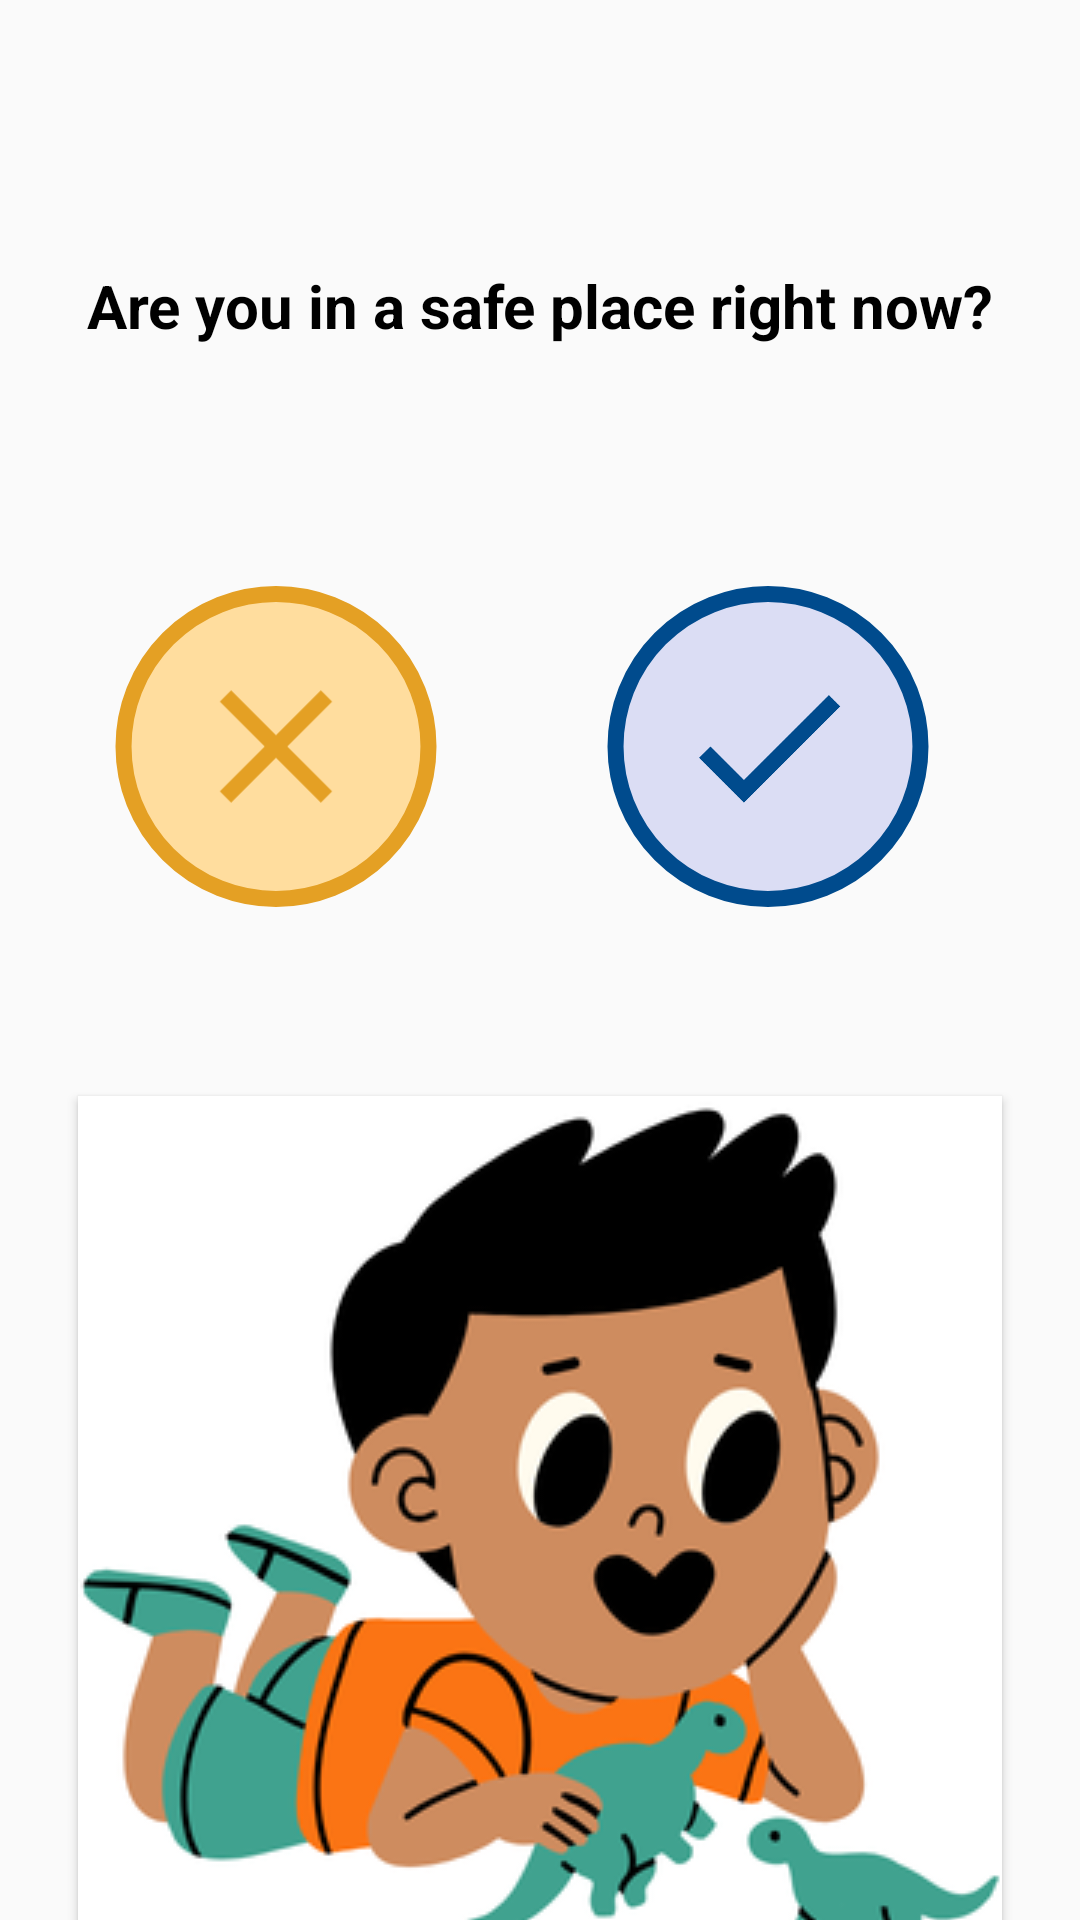

Named icons in this screenshot (1080×1920) and their bounding boxes, (x1, y1, x2, y2):
close: (115, 586, 437, 907)
tick: (607, 586, 929, 907)
